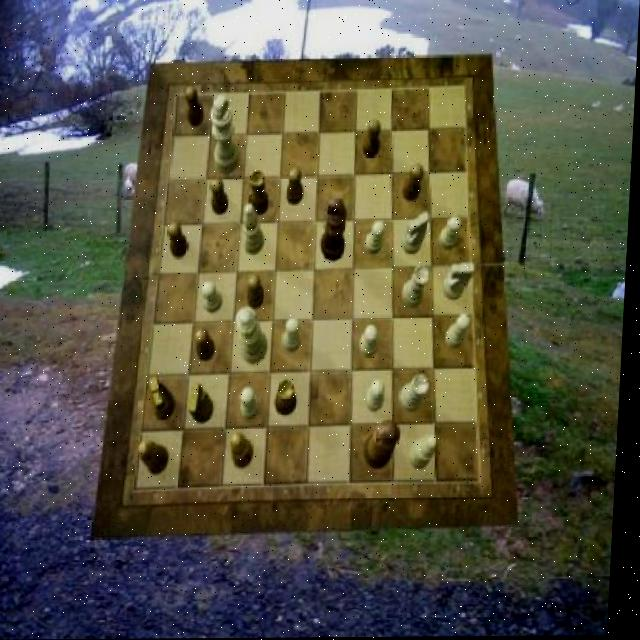bishop: (143, 441, 175, 475), (235, 434, 259, 470)
black-bishop: (321, 198, 349, 262)
black-king: (151, 377, 180, 420), (192, 383, 218, 425)
black-knight: (169, 223, 193, 259), (184, 87, 205, 128), (403, 164, 426, 201), (211, 177, 231, 215), (197, 328, 219, 362), (287, 167, 306, 205), (362, 121, 381, 159), (250, 274, 269, 308)
black-pawn: (366, 421, 404, 470)
black-queen: (250, 169, 272, 215), (278, 380, 302, 418)
black-rook: (242, 203, 267, 256), (413, 434, 442, 470)
white-bishop: (208, 96, 243, 176)
white-king: (404, 213, 433, 255), (445, 263, 477, 299)
white-knight: (450, 314, 475, 349), (441, 216, 465, 251), (205, 281, 227, 314), (243, 387, 264, 421), (367, 222, 388, 256), (286, 318, 305, 353), (369, 380, 389, 413), (363, 325, 382, 359)
white-pawn: (237, 308, 272, 365)
white-queen: (405, 267, 434, 309), (403, 376, 434, 414)
